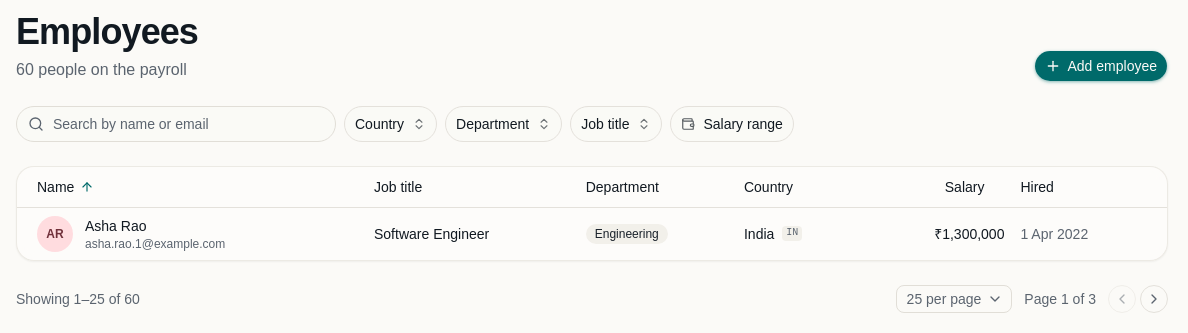
Test case: employee list › pagination moves between pages and stops at both ends
expect the button "Asha Rao" is shown: met, box [85,216,146,236]
expect the text "Page 1 of 3" is shown: met, box [1024,288,1096,308]
Click the button named "Next page" at [1154, 298], box [1140,284,1168,312]
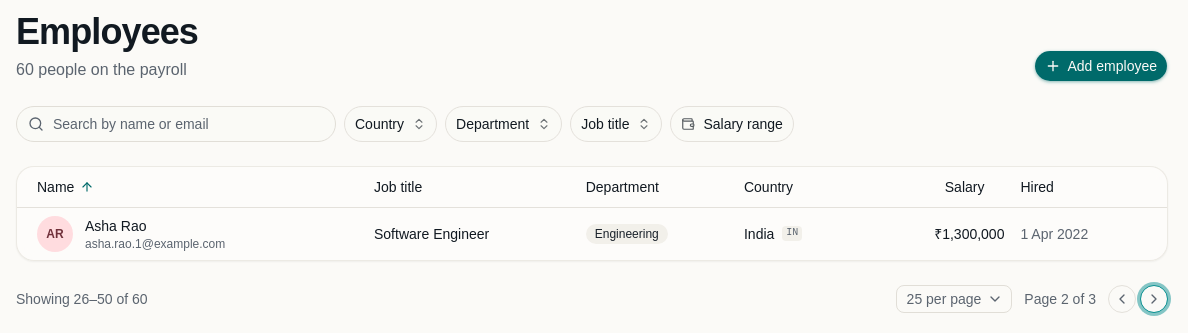
expect the text "Page 2 of 3" is shown: met, box [1024,288,1096,308]
